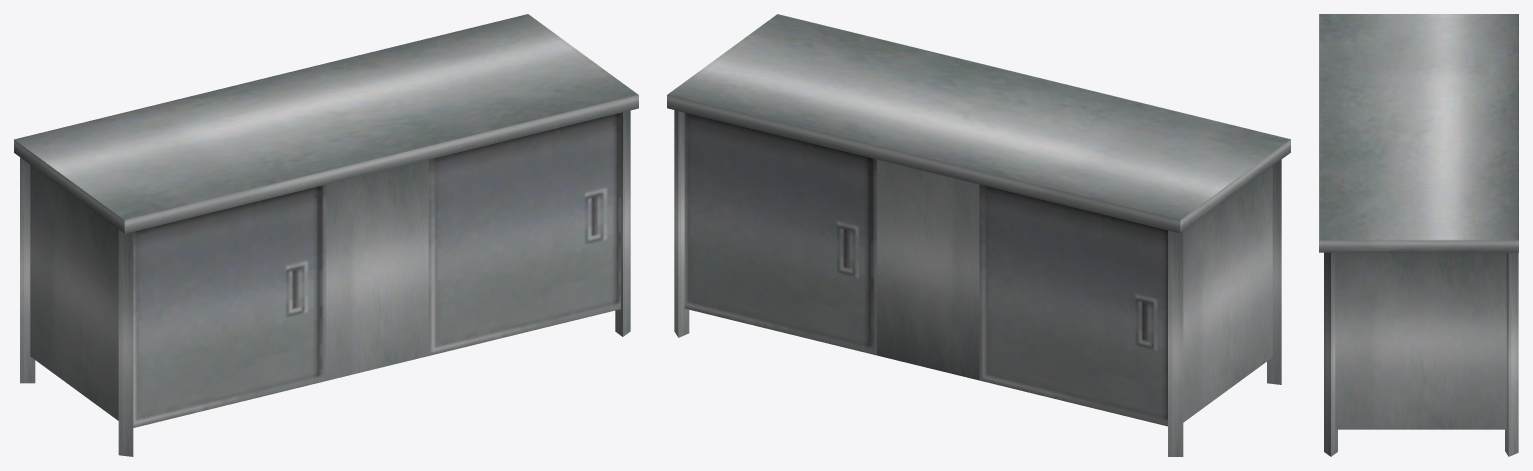
The model's file is steel_table.fbx.
3 views of the same model, side by side, from view 1: azimuth 30°, elevation 25°; view 2: azimuth 150°, elevation 25°; view 3: azimuth 270°, elevation 25° (orthographic). The views are drawn at different scales.
Visible parts, largest first — view 1: mesh_0; view 2: mesh_0; view 3: mesh_0.
Boxes of the visible parts, <box> form: mesh_0: <box>14,14,638,456</box>; mesh_0: <box>667,14,1290,456</box>; mesh_0: <box>1319,14,1518,456</box>.
Bounding box in the file's own units: 201 × 90 × 75.
1 material, 1 textured.
